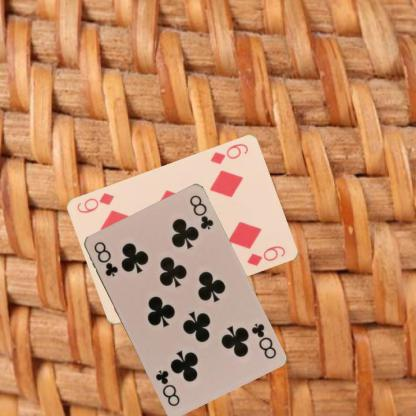6d: (208, 141, 250, 166)
8c: (248, 320, 278, 360), (91, 239, 119, 278)
